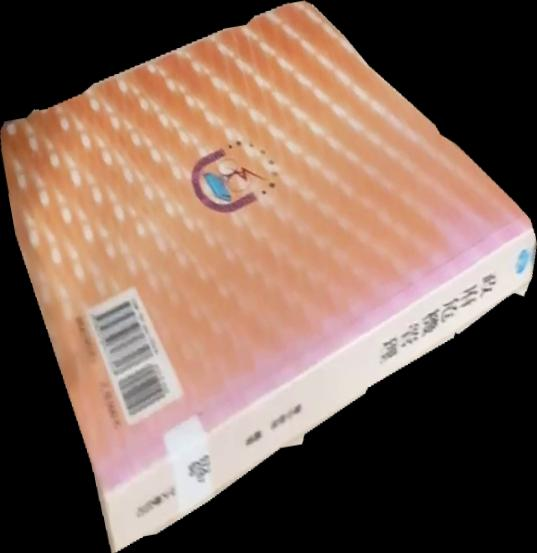flat: (1, 1, 537, 553)
